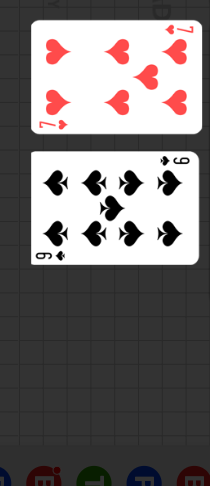7H: (163, 24, 195, 36)
9S: (34, 249, 67, 262)
